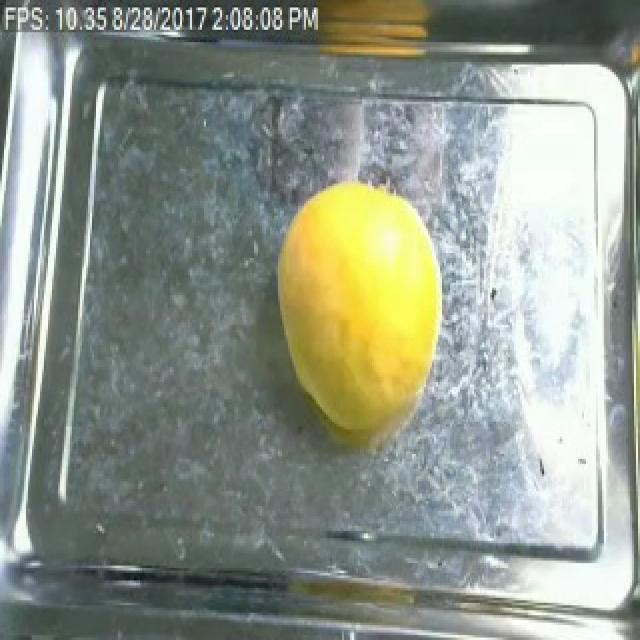fruit: (262, 174, 454, 464), (298, 0, 444, 79)
